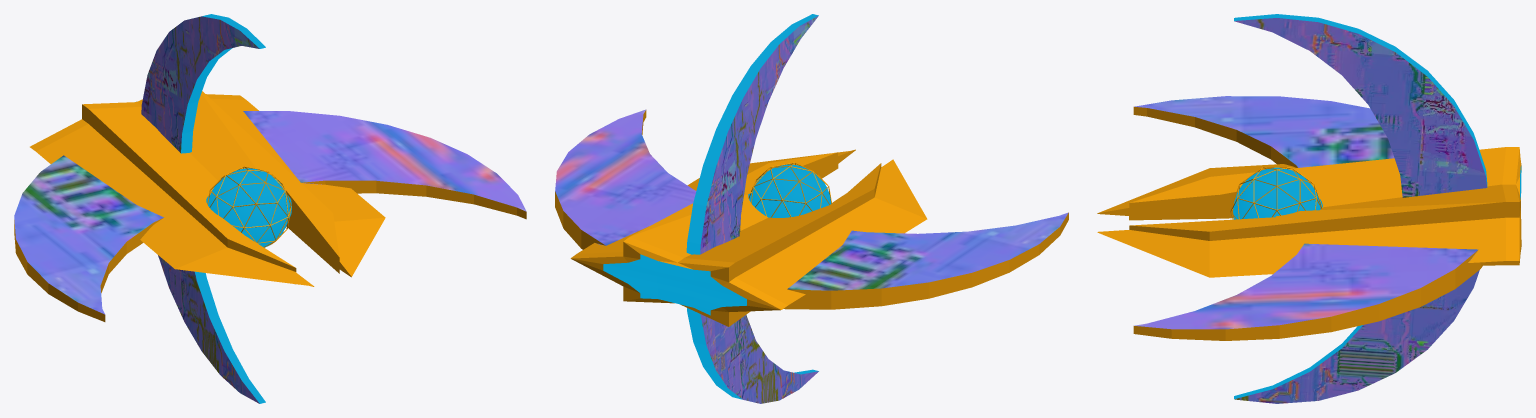
Rendered from harbinger-of-dawn-0.3.glb.
The picture shows the model from 3 angles, left to right: view 1: azimuth 30°, elevation 25°; view 2: azimuth 150°, elevation 25°; view 3: azimuth 270°, elevation 25°; orthographic projection. The views are drawn at different scales.
Visible parts, largest first — view 1: Plane.001, Cylinder, Cylinder.001, Sphere, Icosphere.001; view 2: Cylinder, Plane.001, Cylinder.001, Plane.002, Sphere, Icosphere.001; view 3: Cylinder, Plane.001, Cylinder.001, Sphere, Icosphere.001.
Part boxes in pixels (x1,y1,x2,y2): Plane.001: (30, 91, 385, 286); Cylinder: (14, 111, 526, 321); Cylinder.001: (141, 14, 265, 403); Sphere: (208, 168, 289, 247); Icosphere.001: (207, 166, 291, 247); Cylinder: (555, 109, 1068, 309); Plane.001: (570, 149, 927, 326); Cylinder.001: (686, 14, 818, 403); Plane.002: (603, 193, 749, 315); Sphere: (749, 164, 831, 217); Icosphere.001: (748, 162, 831, 217); Cylinder: (1133, 96, 1485, 340); Plane.001: (1097, 147, 1521, 277); Cylinder.001: (1234, 14, 1487, 403); Sphere: (1233, 167, 1320, 219); Icosphere.001: (1230, 167, 1322, 219).
Size of the model in its own units: 59.64 by 46.02 by 45.8.
Materials: 3 (1 with a texture image).
